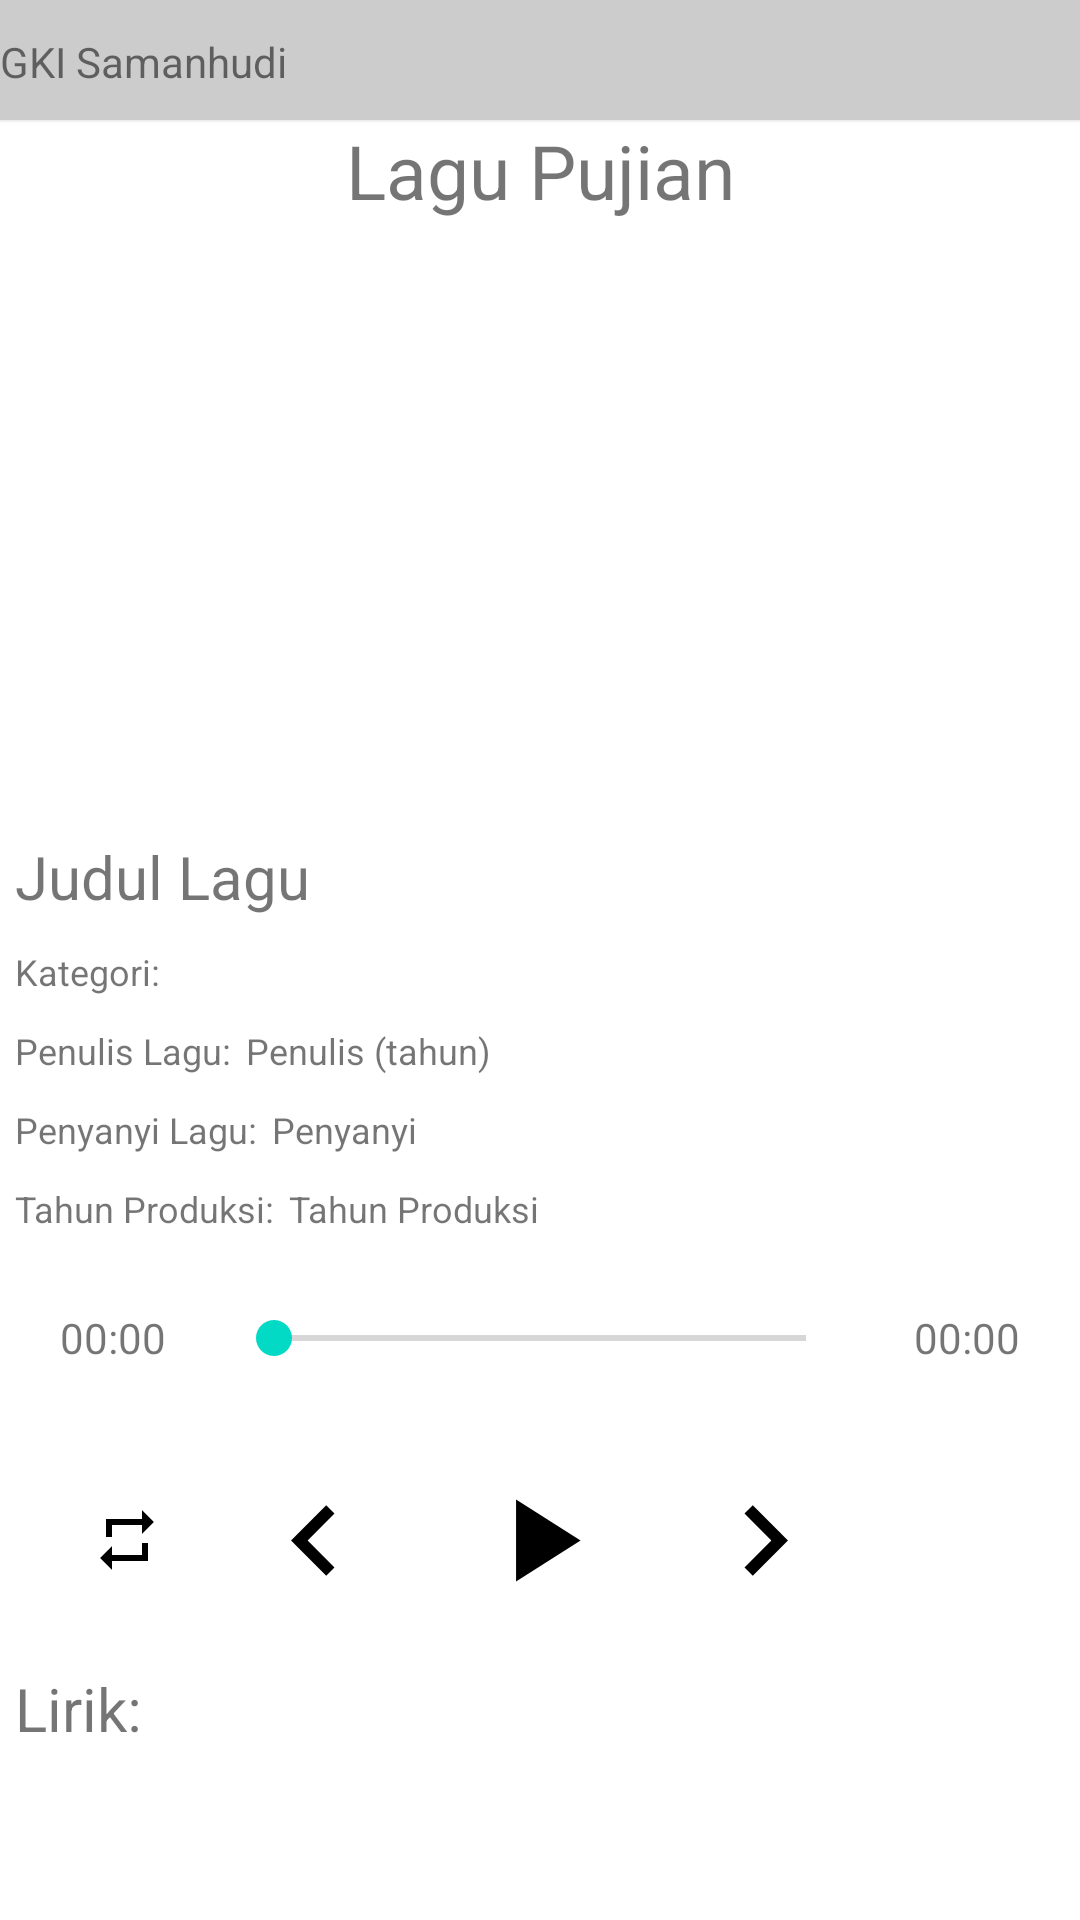

Named icons in this screenshot (1080 × 1920) and their centers, (x,y):
back: (313,1540)
forward: (766,1540)
loop: (127,1540)
